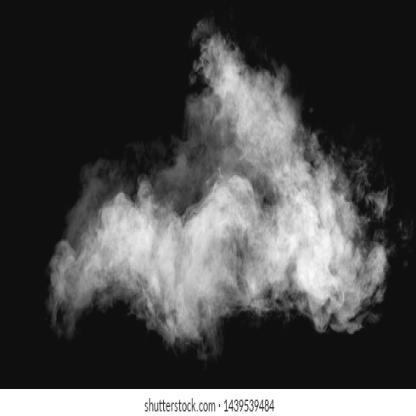smoke: (44, 11, 387, 348)
